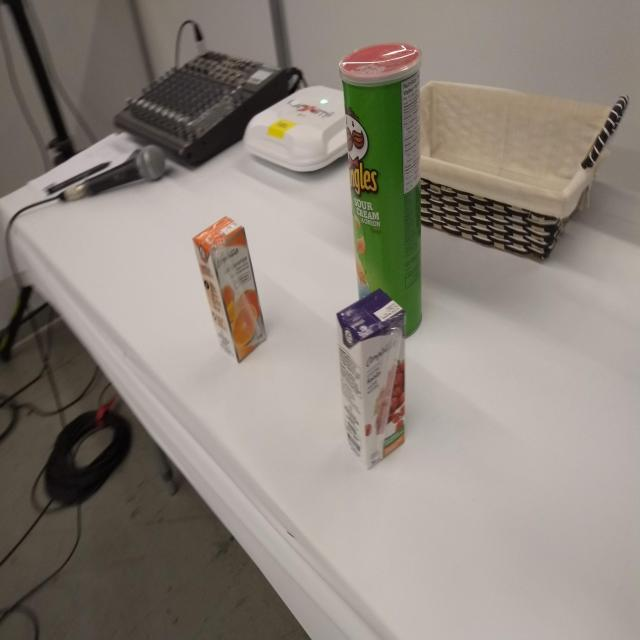grape_juice: (332, 283, 412, 475)
orange_juice: (190, 212, 272, 368)
pringles: (336, 39, 426, 341)
